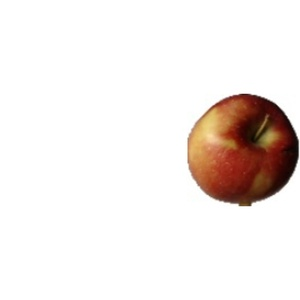maçã braeburn: (186, 89, 299, 206)
